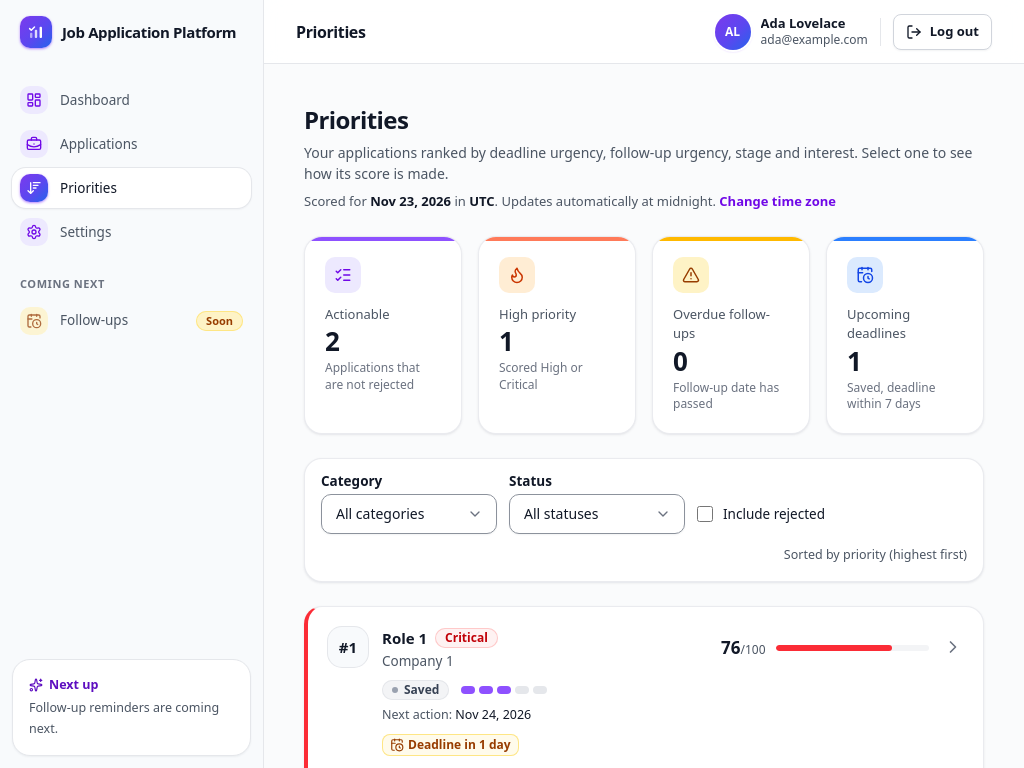
Test: Priorities page: breakdown › selecting an item shows score, category, each factor with weighted contribution, the explanations and the formula
The width and height of the screenshot is (1024, 768).
Click the button with aria-label "Role 1 at Company 1: view priority breakdown" at (405, 638), box [382, 627, 427, 649]
(page scrolled)
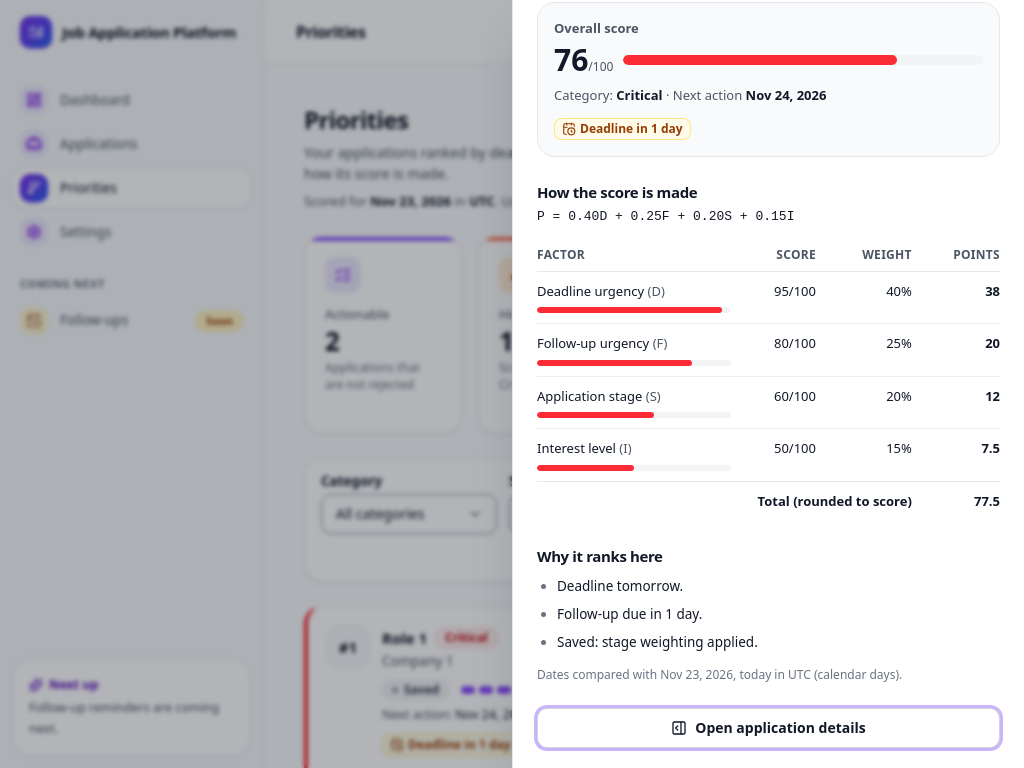
expect the text with test id "priority-formula" reads "P = 0.40D + 0.25F + 0.20S + 0.15I": met, box [537, 209, 794, 224]
expect the list items read "Deadline tomorrow.", "Follow-up due in 1 day.", "Saved: stage weighting applied.", in this order: met, box [557, 577, 683, 595]; [557, 605, 702, 623]; [557, 633, 758, 651]
expect the text "Dates compared with Nov 23, 2026, today in UTC" is shown: met, box [537, 666, 902, 683]
